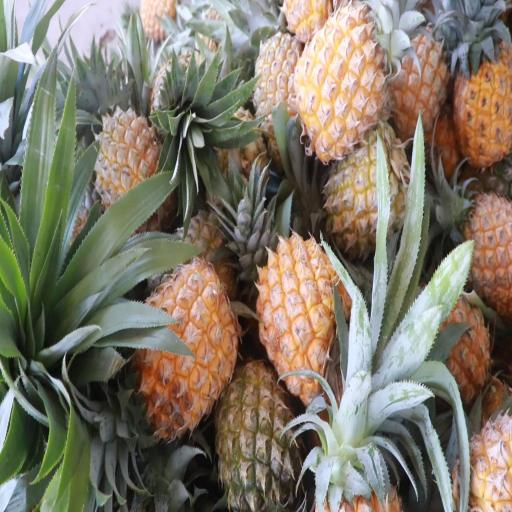------------------------------: (324, 134, 408, 255)
Pineapple - v8 v1: (130, 266, 236, 432), (258, 235, 349, 394), (299, 10, 388, 152), (441, 190, 512, 302), (454, 38, 512, 166), (388, 26, 450, 136)
